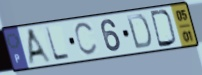6: (100, 18, 123, 54)
A: (27, 26, 55, 66)
C: (73, 21, 99, 58)
D: (148, 9, 178, 49), (125, 13, 153, 51)
L: (44, 26, 72, 62)
